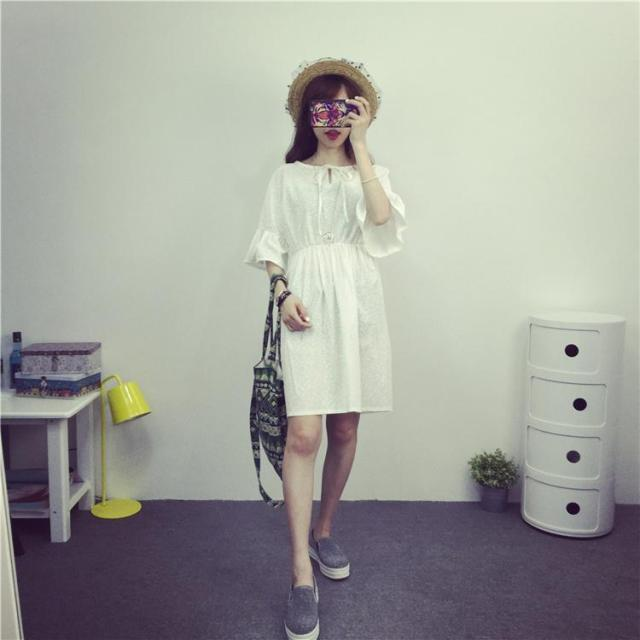short-sleeve-dress: (223, 148, 442, 477)
